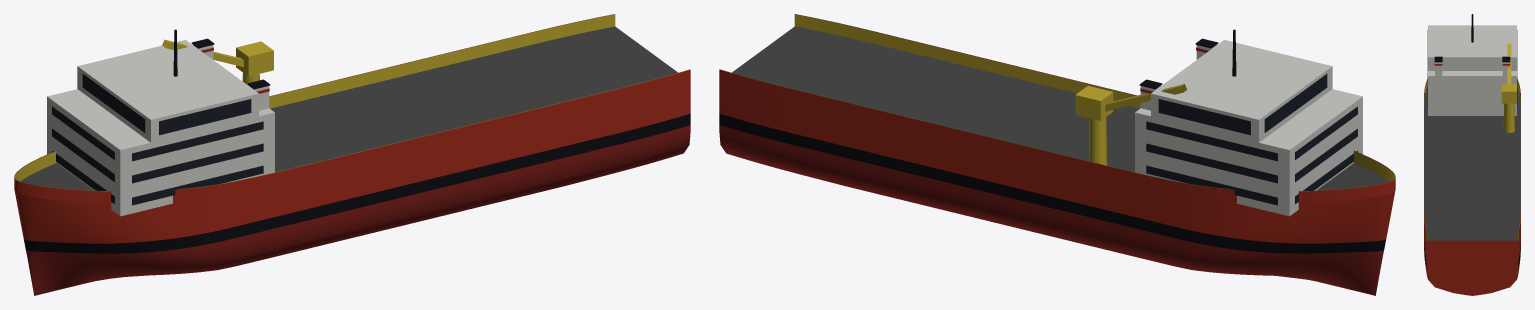
Rendered from psv.glb.
The picture shows the model from 3 angles, left to right: view 1: azimuth 30°, elevation 25°; view 2: azimuth 150°, elevation 25°; view 3: azimuth 270°, elevation 25°; orthographic projection. The views are drawn at different scales.
Parts seen in each view (by area): view 1: psv; view 2: psv; view 3: psv.
Part boxes in pixels (x1,y1,x2,y2): psv: (14, 14, 690, 295); psv: (719, 14, 1395, 295); psv: (1424, 14, 1520, 295).
Size of the model in its own units: 87.55 by 30.39 by 19.
